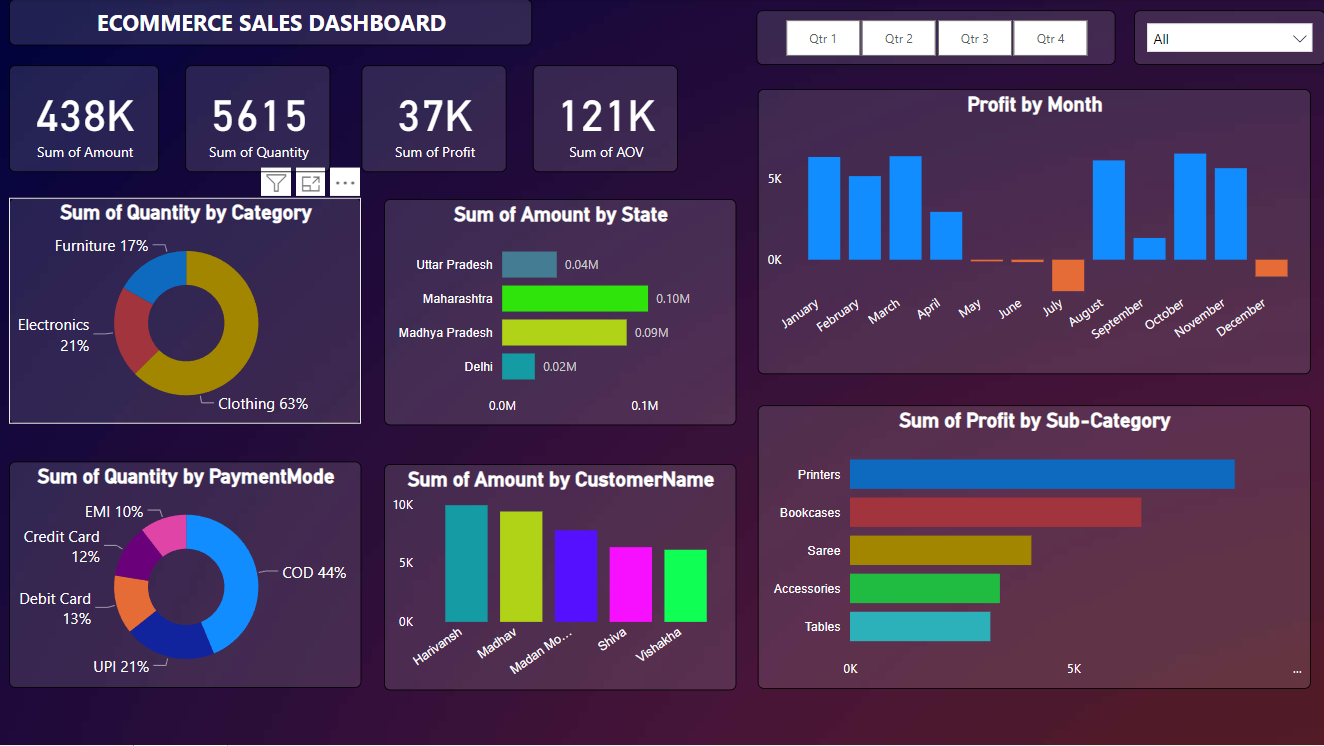

This screenshot's page, from the dashboard's own definition file:
{"tool":"powerbi","page":{"name":"Page 1","canvas":[1280,720],"ordinal":0},"visuals":[{"type":"textbox","box":[10,0,505,45],"z":0},{"type":"columnChart","title":"Profit by Month","fields":{"Category":["Orders.Order Date.Variation.Date Hierarchy.Month"],"Y":["Details.Profit"]},"box":[731.7,86.7,533.3,275],"z":1000},{"type":"barChart","fields":{"Category":["Details.Sub-Category"],"Y":["Details.Profit"]},"box":[731.7,391.7,533.3,273.3],"z":2000},{"type":"donutChart","fields":{"Category":["Details.Category"],"Y":["Details.Quantity"]},"box":[10,191.7,340,218.3],"z":3000},{"type":"donutChart","fields":{"Y":["Details.Quantity"],"Category":["Details.PaymentMode"]},"box":[10,446.7,340,218.3],"z":4000},{"type":"card","fields":{"Values":["Details.Amount"]},"box":[10,63.3,145,103.3],"z":5000},{"type":"card","fields":{"Values":["Details.Quantity"]},"box":[180,63.3,140,103.3],"z":6000},{"type":"card","fields":{"Values":["Details.Profit"]},"box":[350,63.3,140,103.3],"z":7000},{"type":"card","fields":{"Values":["Details.AOV"]},"box":[515,63.3,140,103.3],"z":8000},{"type":"barChart","fields":{"Category":["Orders.State"],"Y":["Details.Amount"]},"box":[371.7,193.3,340,218.3],"z":9000},{"type":"columnChart","fields":{"Category":["Orders.CustomerName"],"Y":["Details.Amount"]},"box":[371.7,448.3,340,218.3],"z":10000},{"type":"slicer","fields":{"Values":["Orders.Order Date.Variation.Date Hierarchy.Quarter"]},"box":[731.2,11.2,346.2,52.5],"z":11000},{"type":"slicer","fields":{"Values":["Orders.State"]},"box":[1095,11.2,185,52.5],"z":12000}]}

Visuals, with their boxes in screenshot pixels (x1, y1, x2, y2), scaled from the page's 1280x720 canvas onto the 1324x746 screenshot:
textbox: [10, 0, 533, 47]
"Profit by Month" columnChart: [757, 90, 1308, 375]
barChart - Details.Sub-Category x Details.Profit: [757, 406, 1308, 689]
donutChart - Details.Category x Details.Quantity: [10, 199, 362, 425]
donutChart - Details.Quantity x Details.PaymentMode: [10, 463, 362, 689]
card - Details.Amount: [10, 66, 160, 173]
card - Details.Quantity: [186, 66, 331, 173]
card - Details.Profit: [362, 66, 507, 173]
card - Details.AOV: [533, 66, 678, 173]
barChart - Orders.State x Details.Amount: [384, 200, 736, 426]
columnChart - Orders.CustomerName x Details.Amount: [384, 464, 736, 691]
slicer - Orders.Order Date.Variation.Date Hierarchy.Quarter: [756, 12, 1114, 66]
slicer - Orders.State: [1133, 12, 1323, 66]
